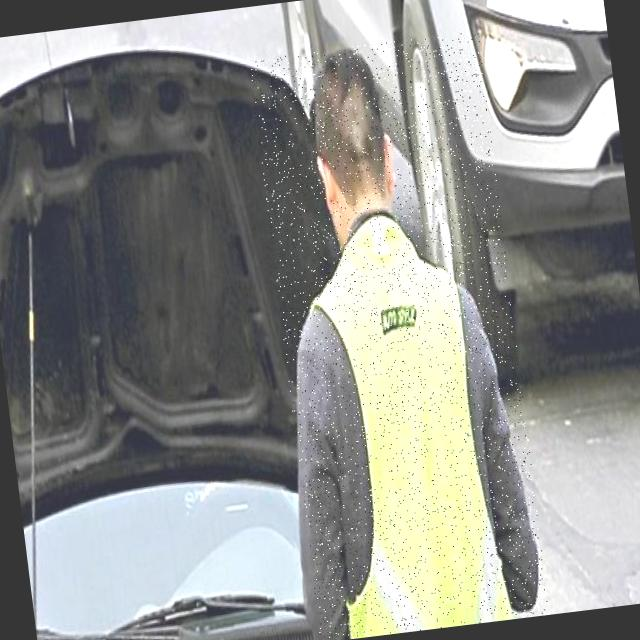no-helmet: (295, 43, 403, 222)
vest: (295, 224, 508, 634)
